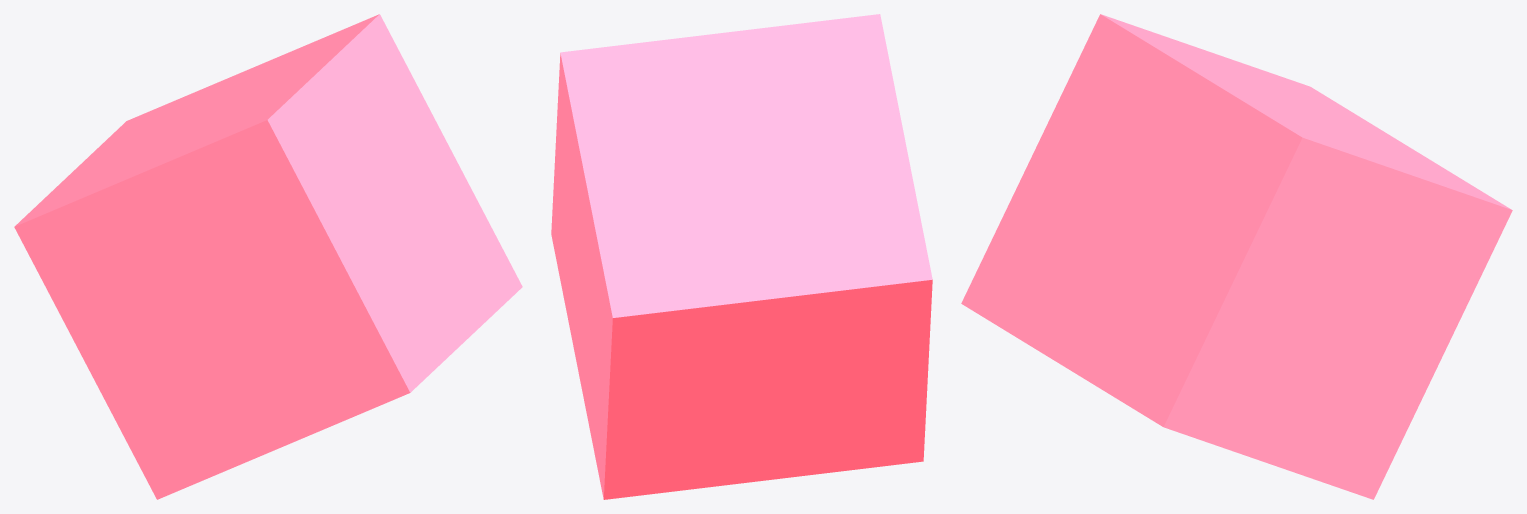
File: hello.gltf
3 renders of one model, left to right at view 1: azimuth 30°, elevation 25°; view 2: azimuth 150°, elevation 25°; view 3: azimuth 270°, elevation 25°, orthographic. The views are drawn at different scales.
Visible parts, largest first — view 1: Cube; view 2: Cube; view 3: Cube.
Part boxes in pixels (x1,y1,x2,y2): Cube: [14, 14, 522, 499]; Cube: [551, 14, 932, 499]; Cube: [961, 14, 1512, 499].
Size of the model in its own units: 4.92 by 4.33 by 5.18.
